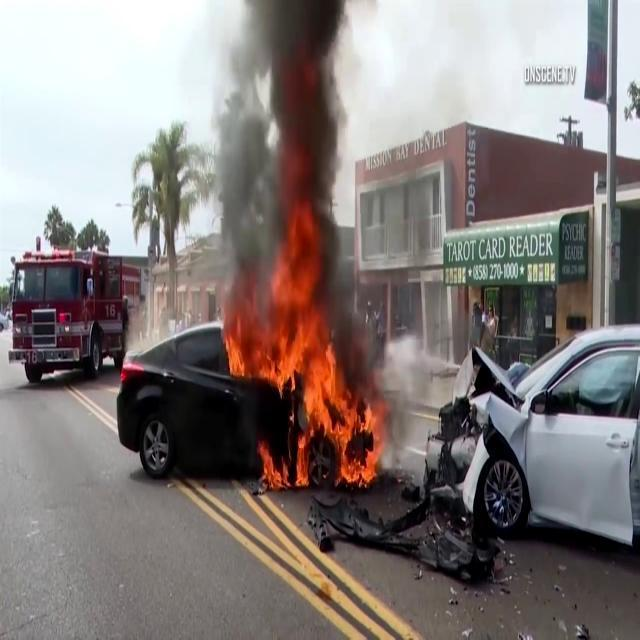Fire: (227, 225, 386, 489)
Smoke: (194, 0, 384, 291)
